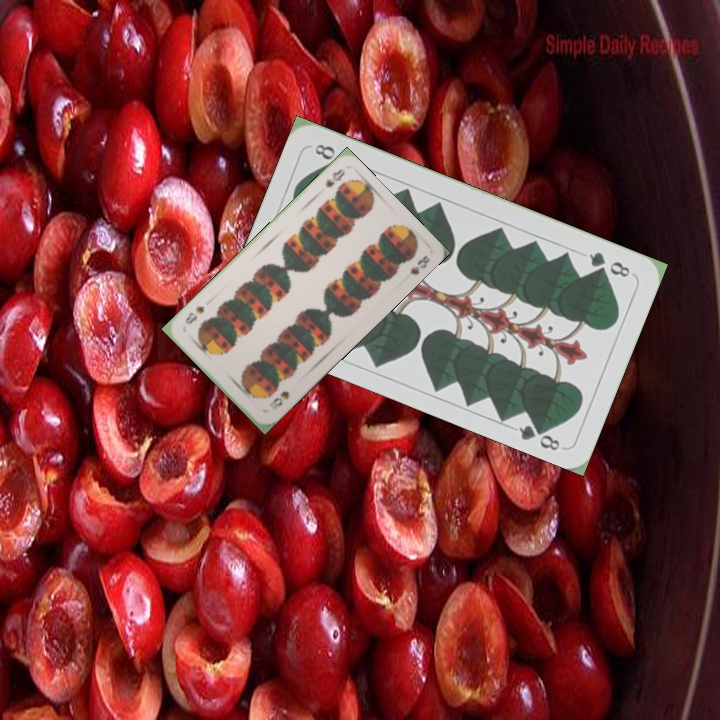G8: (585, 247, 636, 280)
S8: (265, 387, 292, 413), (321, 165, 347, 190)
